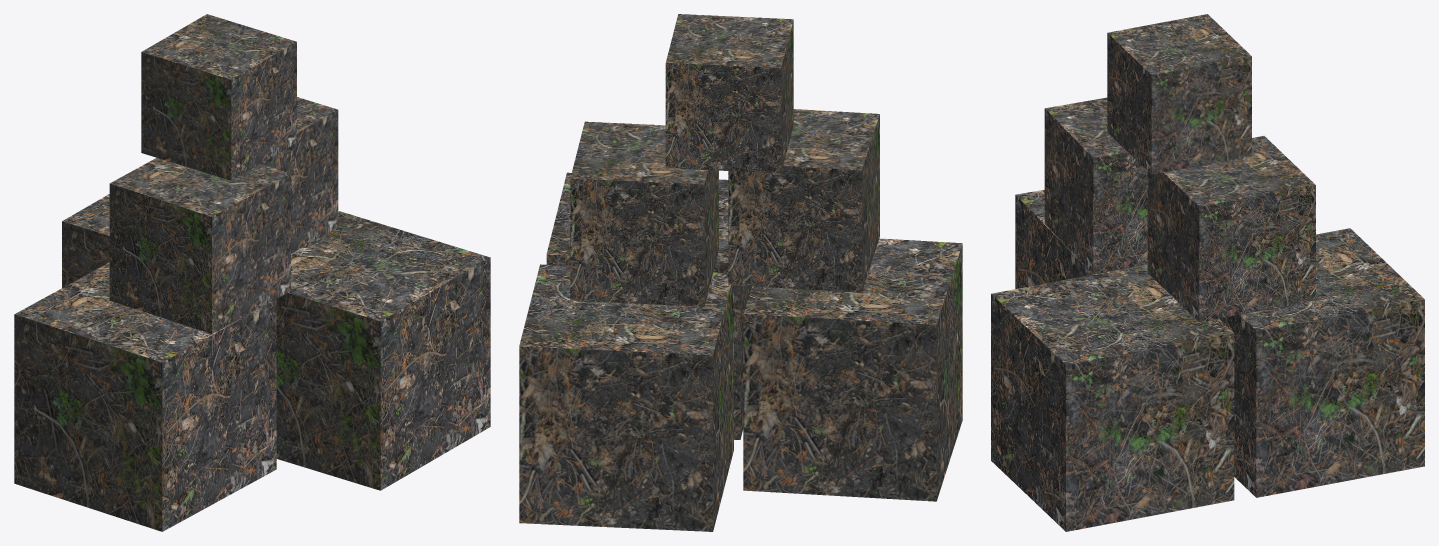
File: Land.fbx
The picture shows the model from 3 angles, left to right: view 1: azimuth 30°, elevation 25°; view 2: azimuth 150°, elevation 25°; view 3: azimuth 270°, elevation 25°; orthographic projection. The views are drawn at different scales.
Parts seen in each view (by area): view 1: Cube.001, Cube.002, Cube.006, Cube.005, Cube.004, Cube.003; view 2: Cube.003, Cube.001, Cube.004, Cube.006, Cube.005, Cube.002; view 3: Cube.002, Cube.003, Cube.004, Cube.005, Cube.006, Cube.001.
Part boxes in pixels (x1,y1,x2,y2): Cube.001: (14,262,276,531); Cube.002: (275,211,490,490); Cube.006: (109,158,290,333); Cube.005: (141,14,296,180); Cube.004: (261,97,338,253); Cube.003: (62,194,109,287); Cube.003: (519,264,733,531); Cube.001: (743,238,962,501); Cube.004: (570,121,718,306); Cube.006: (728,109,879,292); Cube.005: (665,14,793,173); Cube.002: (546,172,751,439); Cube.002: (991,264,1234,531); Cube.003: (1219,228,1424,497); Cube.004: (1147,136,1315,322); Cube.005: (1107,14,1251,174); Cube.006: (1044,97,1147,273); Cube.001: (1015,189,1139,288).
Size of the model in its own units: 310 by 279 by 285.
Materials: 1 (1 with a texture image).
